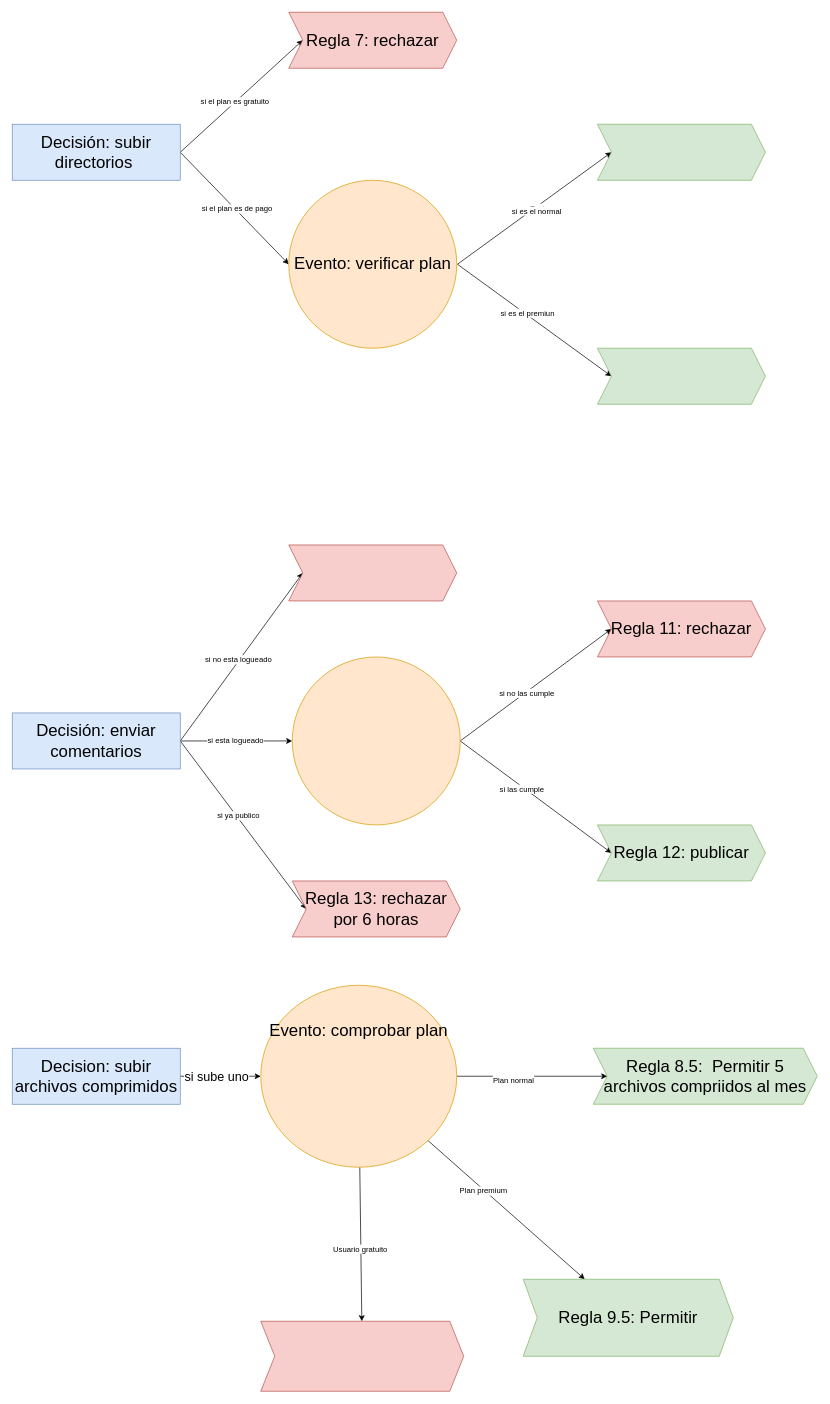
The diagram is 830 pixels wide and 1404 high, and some of its shapes have lost their labels. Each missing label, with the centre of its shape:
"Evento: comprobar las normas" goes at pixel 376 740.
"Regla 10: rechazar" goes at pixel 372 572.
"regla 7.5:rechazar" goes at pixel 362 1356.
"Regla 8: aceptar directos hasta 50GB" goes at pixel 681 152.
"Regla 9: aceptar sin limite" goes at pixel 681 376.
